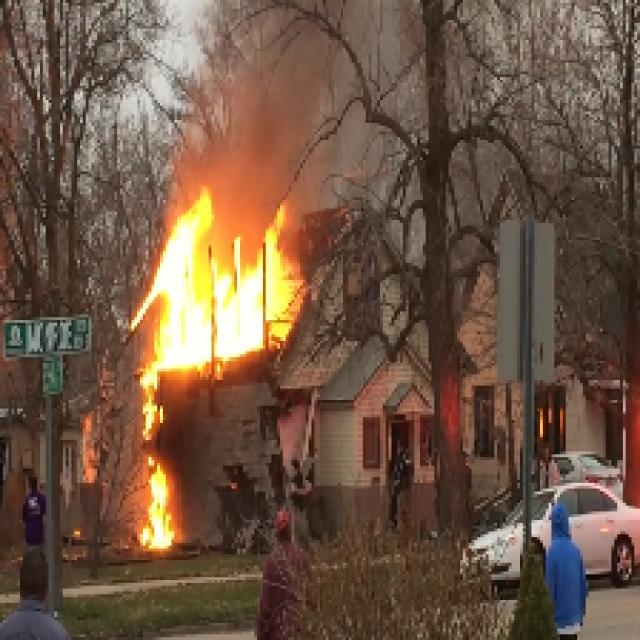fire: (136, 216, 304, 375), (136, 383, 174, 548)
smoke: (221, 54, 313, 200)
